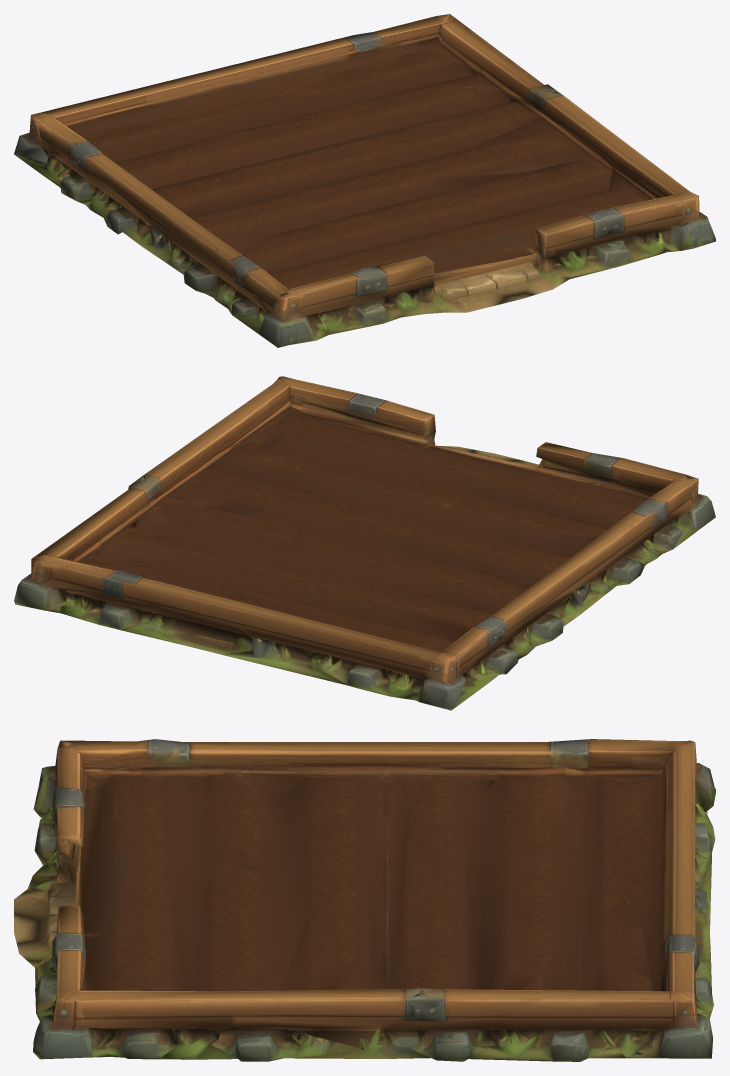
The model's file is Farm3.fbx.
The picture shows the model from 3 angles, top to bottom: view 1: azimuth 30°, elevation 25°; view 2: azimuth 150°, elevation 25°; view 3: azimuth 270°, elevation 25°; orthographic projection. The views are drawn at different scales.
Visible parts, largest first — view 1: Mesh_0; view 2: Mesh_0; view 3: Mesh_0.
Boxes of the visible parts, x1=… form: Mesh_0: x1=14, y1=14, x2=715, y2=347; Mesh_0: x1=14, y1=376, x2=715, y2=710; Mesh_0: x1=14, y1=739, x2=715, y2=1061.
Size of the model in its own units: 177 by 17.33 by 191.
Materials: 1 (1 with a texture image).
